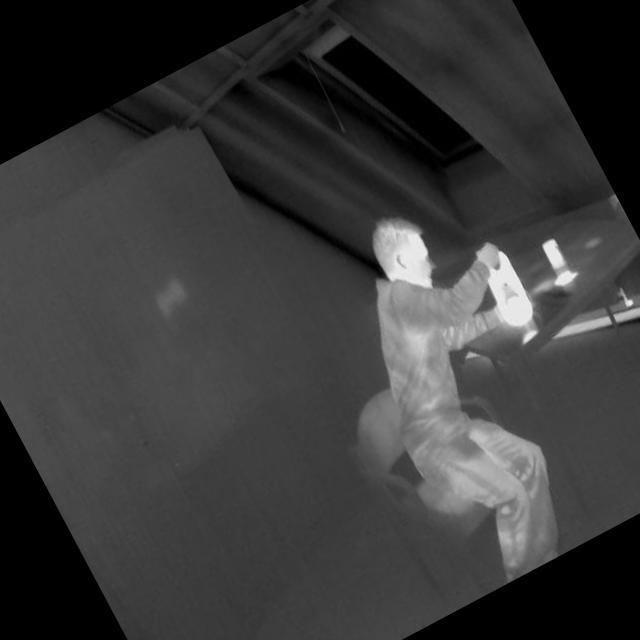person: (294, 170, 640, 600)
